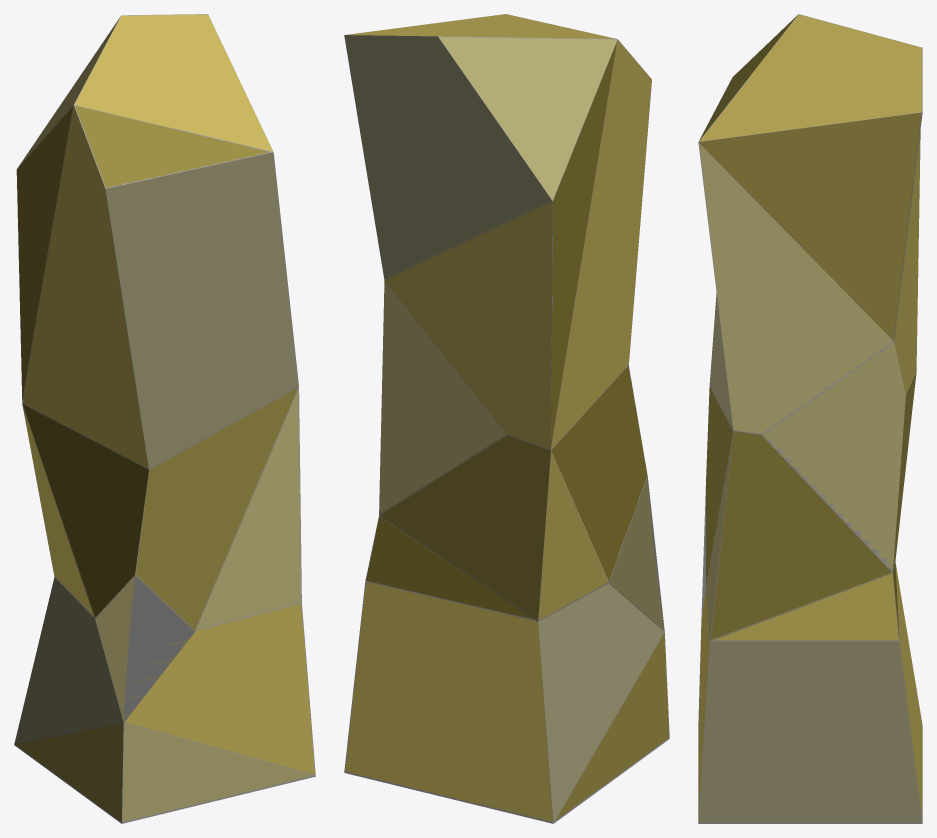
Rendered from Desert_Wall.fbx.
3 renders of one model, left to right at view 1: azimuth 30°, elevation 25°; view 2: azimuth 150°, elevation 25°; view 3: azimuth 270°, elevation 25°, orthographic. The views are drawn at different scales.
Visible parts, largest first — view 1: Cube.013; view 2: Cube.013; view 3: Cube.013.
Boxes of the visible parts, bbox=[...] form: Cube.013: bbox=[14, 14, 315, 823]; Cube.013: bbox=[344, 14, 669, 823]; Cube.013: bbox=[698, 14, 922, 823].
Size of the model in its own units: 18.7 by 64.81 by 17.99.
